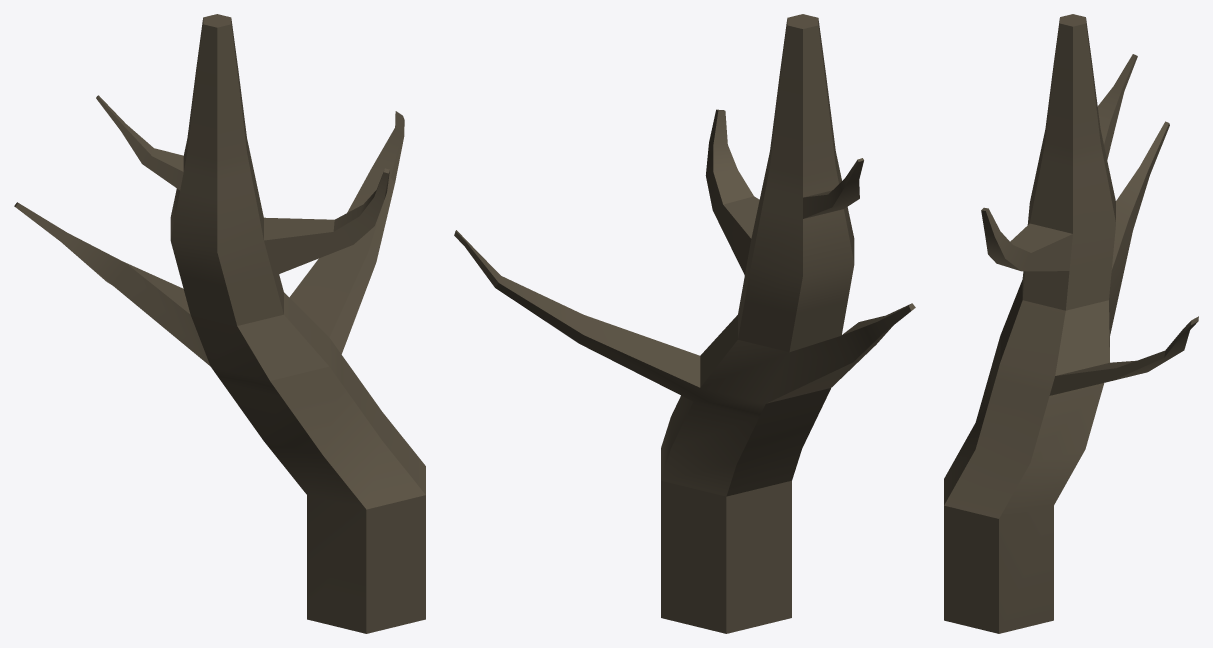
Rendered from arbol_seco.fbx.
3 renders of one model, left to right at view 1: azimuth 30°, elevation 25°; view 2: azimuth 150°, elevation 25°; view 3: azimuth 270°, elevation 25°, orthographic. The views are drawn at different scales.
Parts seen in each view (by area): view 1: pCylinder1; view 2: pCylinder1; view 3: pCylinder1.
Part boxes in pixels (box(x1,y1,x2,y2)): pCylinder1: box(14, 14, 425, 633); pCylinder1: box(454, 14, 915, 633); pCylinder1: box(944, 14, 1198, 633).
Size of the model in its own units: 19.89 by 27.39 by 11.77.
